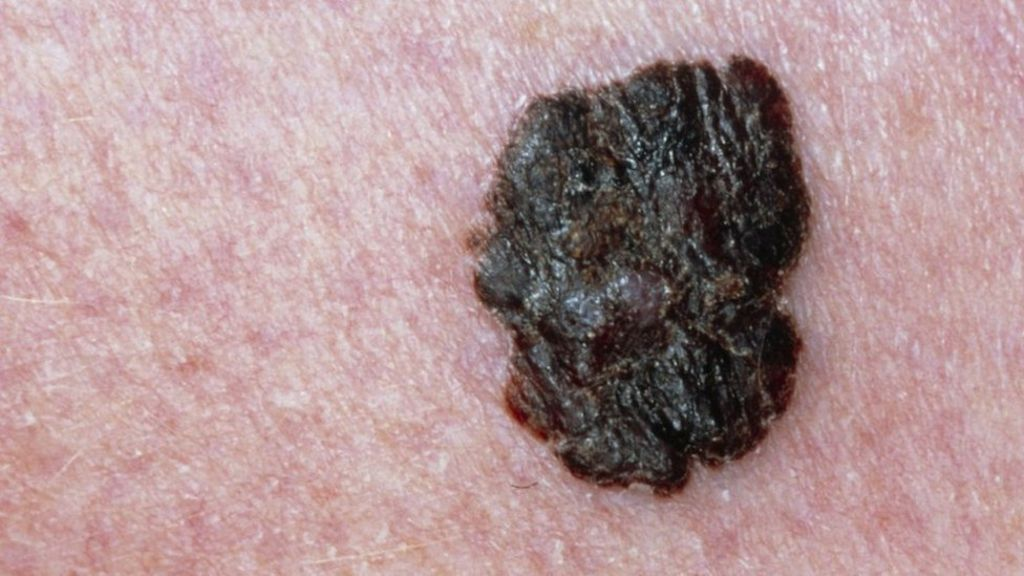melanoma: (397, 66, 846, 517)
